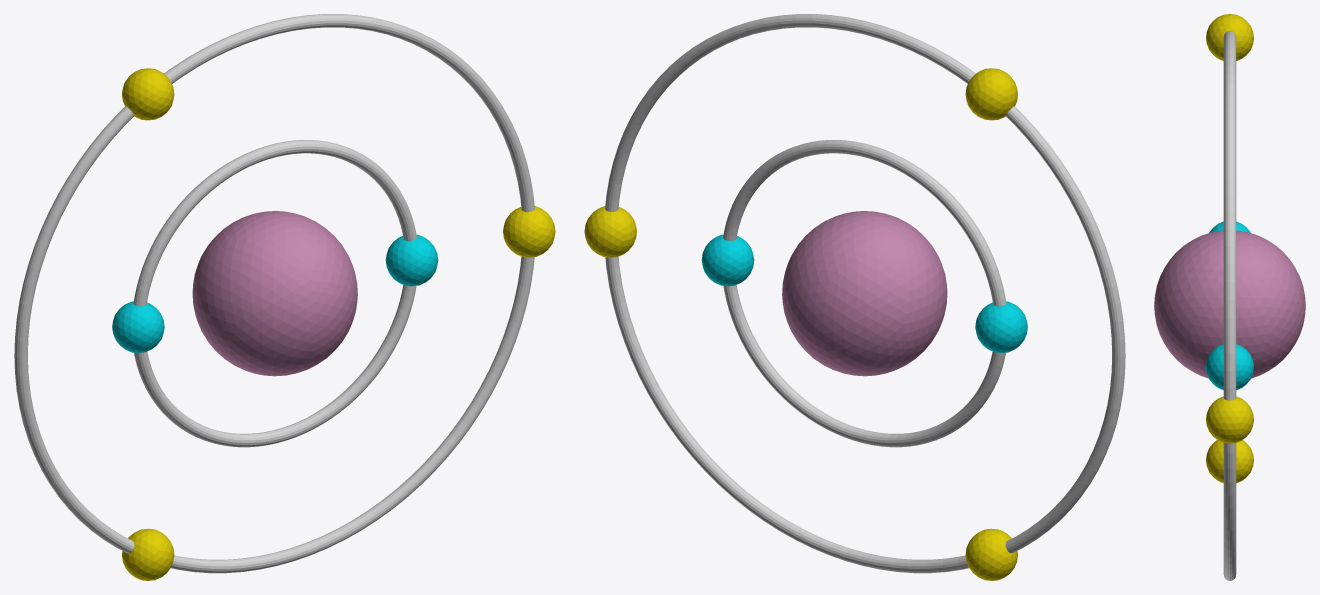
3 renders of one model, left to right at view 1: azimuth 30°, elevation 25°; view 2: azimuth 150°, elevation 25°; view 3: azimuth 270°, elevation 25°, orthographic. The views are drawn at different scales.
Parts seen in each view (by area): view 1: Nucleo_B, Camada_2, Camada_1, e2_2, e1_2, e2_1, e1_1, e2_3; view 2: Nucleo_B, Camada_2, Camada_1, e2_2, e1_2, e2_1, e1_1, e2_3; view 3: Nucleo_B, Camada_2, e2_1, e2_2, e1_1, e2_3.
Boxes of the visible parts, bbox=[...] form: Nucleo_B: bbox=[192, 211, 357, 376]; Camada_2: bbox=[14, 14, 534, 573]; Camada_1: bbox=[133, 140, 416, 447]; e2_2: bbox=[122, 68, 174, 120]; e1_2: bbox=[112, 301, 164, 352]; e2_1: bbox=[503, 206, 555, 257]; e1_1: bbox=[385, 234, 438, 286]; e2_3: bbox=[122, 528, 174, 580]; Nucleo_B: bbox=[782, 211, 947, 376]; Camada_2: bbox=[605, 14, 1125, 573]; Camada_1: bbox=[723, 140, 1006, 447]; e2_2: bbox=[965, 68, 1017, 120]; e1_2: bbox=[975, 301, 1027, 352]; e2_1: bbox=[584, 206, 636, 257]; e1_1: bbox=[701, 234, 754, 286]; e2_3: bbox=[965, 528, 1017, 580]; Nucleo_B: bbox=[1154, 230, 1305, 378]; Camada_2: bbox=[1223, 31, 1236, 580]; e2_1: bbox=[1206, 396, 1253, 443]; e2_2: bbox=[1206, 14, 1253, 60]; e1_1: bbox=[1206, 344, 1253, 390]; e2_3: bbox=[1206, 440, 1253, 483].
Size of the model in its own units: 1.65 by 1.6 by 0.44.
